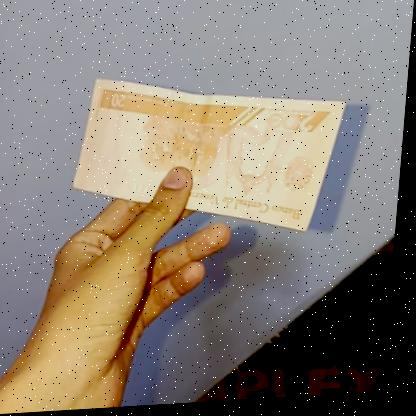twenty-back-vef: (70, 66, 354, 245)
